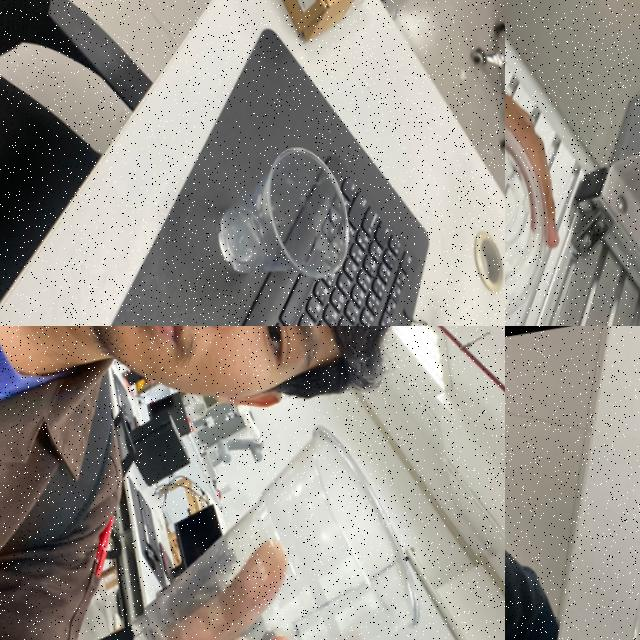glass: (92, 398, 447, 640), (199, 130, 367, 304), (505, 71, 577, 326)
